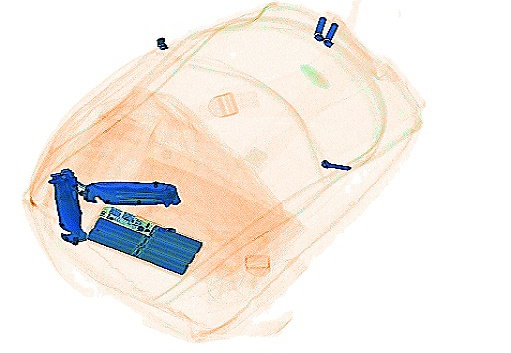knife: (45, 166, 87, 246), (77, 177, 182, 207)
powerbank: (83, 202, 202, 274)
